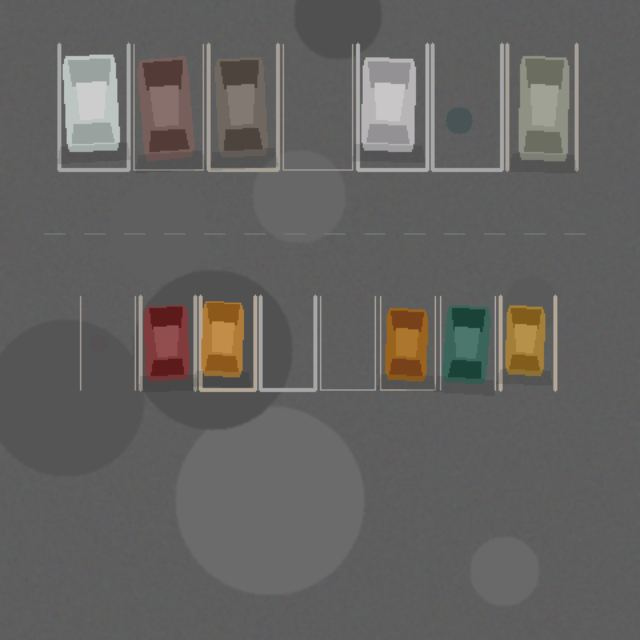space-empty: (283, 44, 352, 169), (432, 44, 501, 169), (80, 296, 135, 389), (260, 296, 315, 389), (320, 296, 375, 389)
space-occupied: (133, 44, 203, 169), (357, 44, 427, 169), (59, 44, 128, 169), (208, 44, 277, 169), (507, 44, 576, 169), (140, 296, 195, 389), (200, 296, 255, 389), (380, 296, 435, 389), (440, 296, 495, 389), (500, 296, 555, 389)
